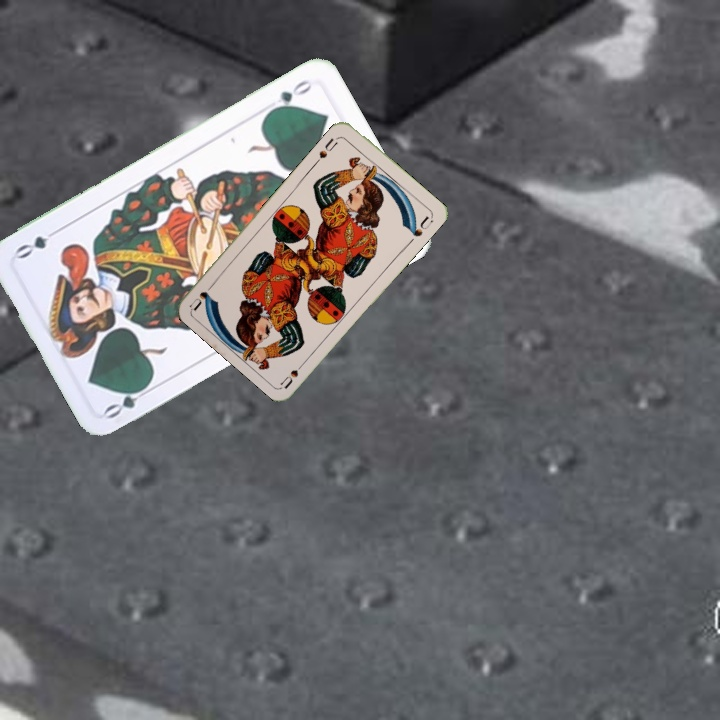GO: (100, 379, 156, 422), (264, 75, 316, 116)
SU: (277, 355, 310, 391), (311, 133, 342, 166)
